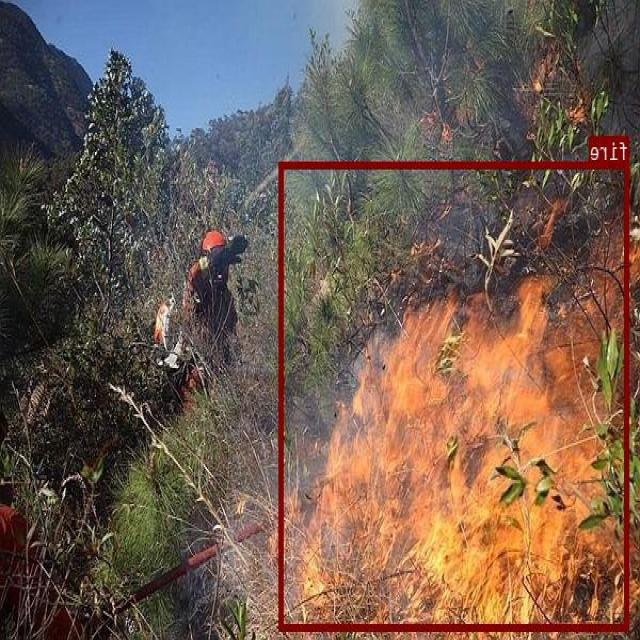fire: (280, 160, 630, 630)
